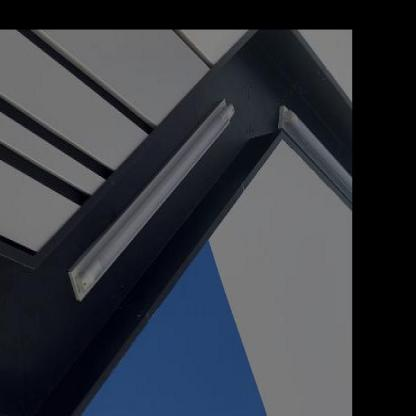light_off: (62, 80, 239, 312), (272, 76, 352, 264)
